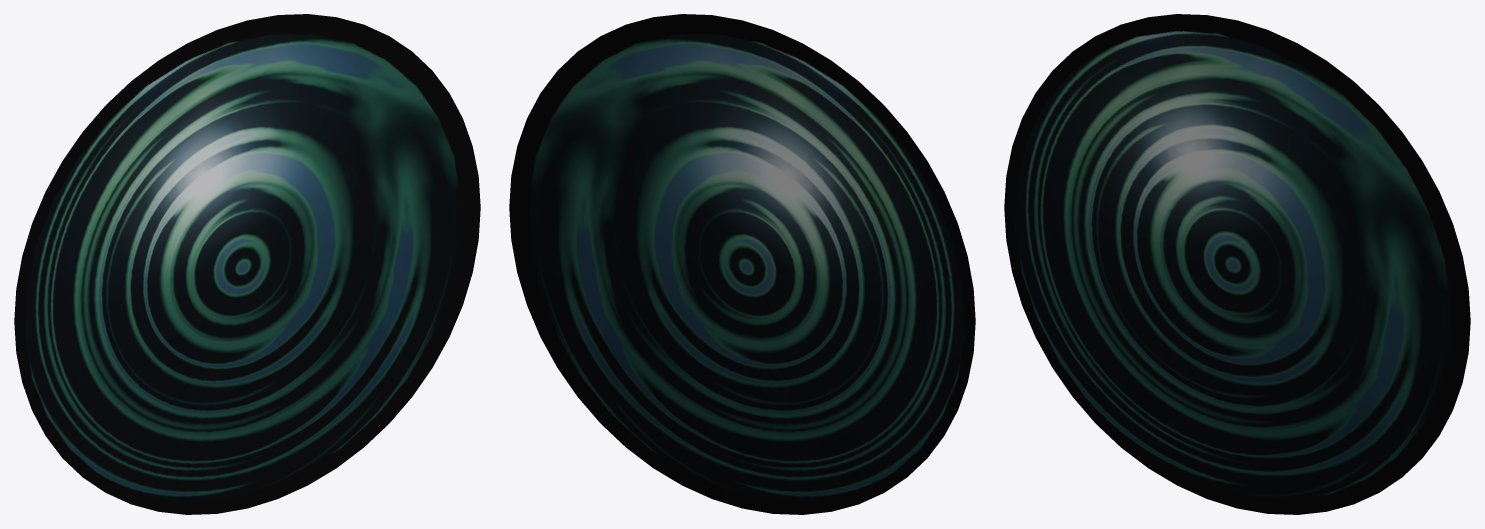
Rendered from portal.glb.
3 views of the same model, side by side, from view 1: azimuth 30°, elevation 25°; view 2: azimuth 150°, elevation 25°; view 3: azimuth 330°, elevation 25° (orthographic).
Visible parts, largest first — view 1: portal; view 2: portal; view 3: portal.
Part boxes in pixels (left/top/right/bottom): portal: left=14, top=14, right=480, bottom=514; portal: left=509, top=14, right=975, bottom=514; portal: left=1004, top=14, right=1470, bottom=514.
Size of the model in its own units: 13 by 13 by 0.
Materials: 1 (1 with a texture image).
